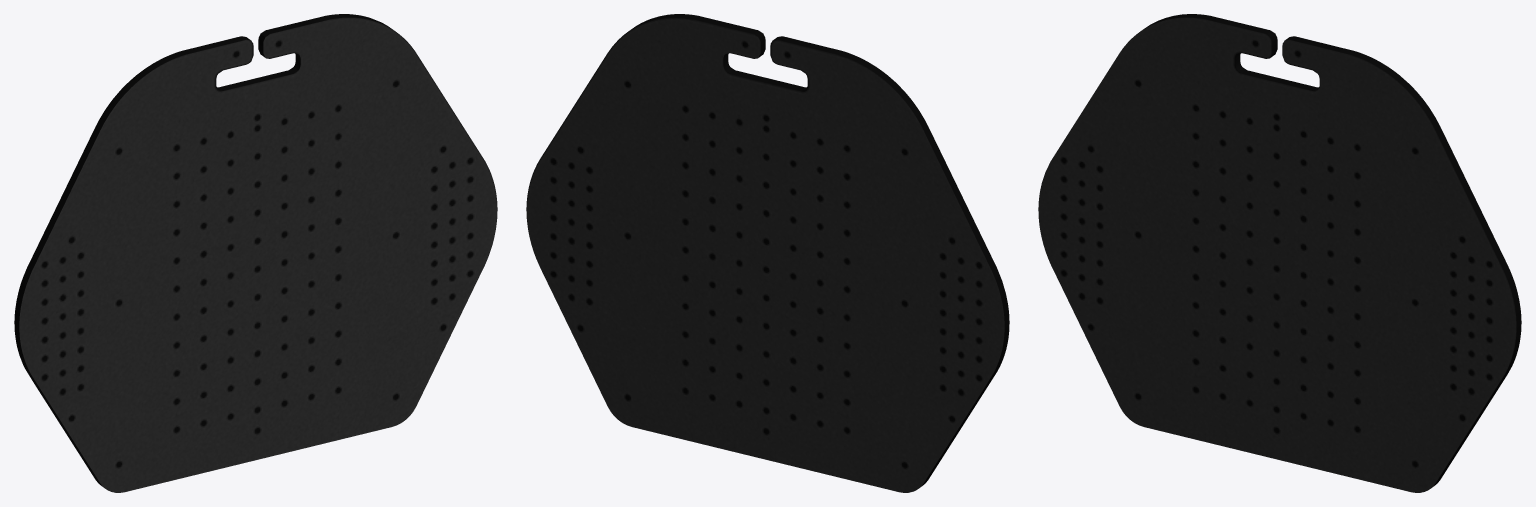
The model's file is plate_top.dae.
The picture shows the model from 3 angles, left to right: view 1: azimuth 30°, elevation 25°; view 2: azimuth 150°, elevation 25°; view 3: azimuth 330°, elevation 25°; orthographic projection.
Visible parts, largest first — view 1: _f_stack; view 2: _f_stack; view 3: _f_stack.
Part boxes in pixels (bbox=[...]): _f_stack: bbox=[14, 14, 497, 492]; _f_stack: bbox=[526, 14, 1009, 492]; _f_stack: bbox=[1038, 14, 1521, 492].
Bounding box in the file's own units: 340 × 6 × 287.
Materials: 1 (1 with a texture image).
